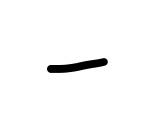minus: (48, 57, 107, 72)
